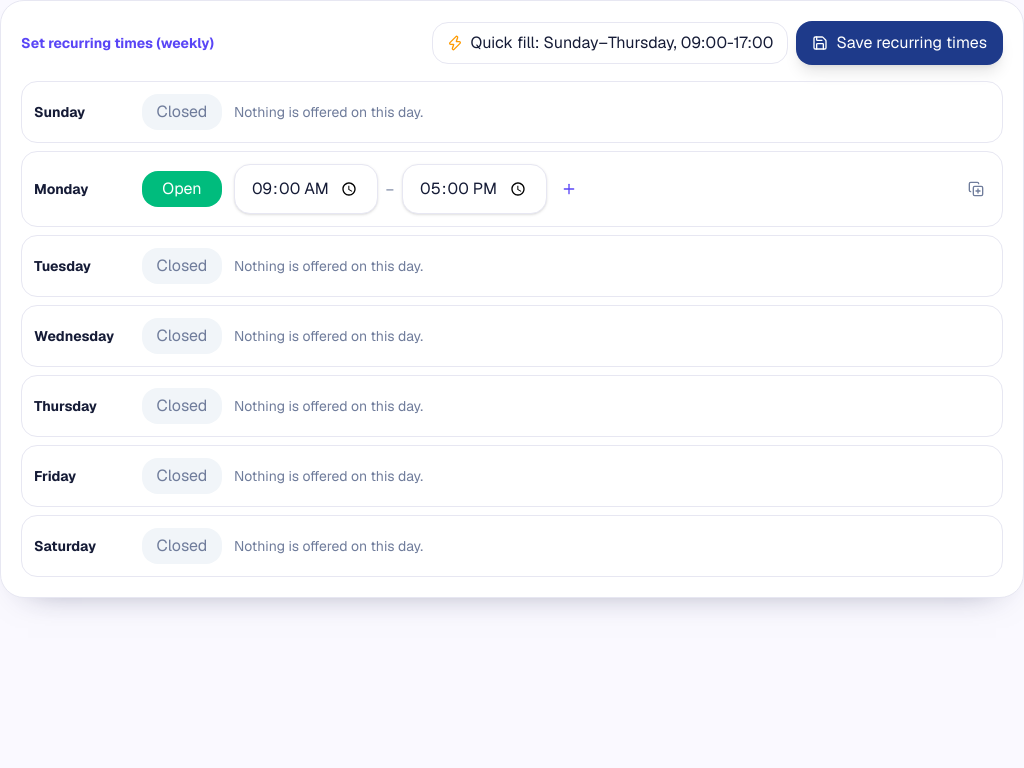
employee weekly hours editor › refuses an end time that is not after the start time
Replace the text in the time field showing "17:00" with "08:00": (474, 189) x1=402 y1=164 x2=547 y2=214
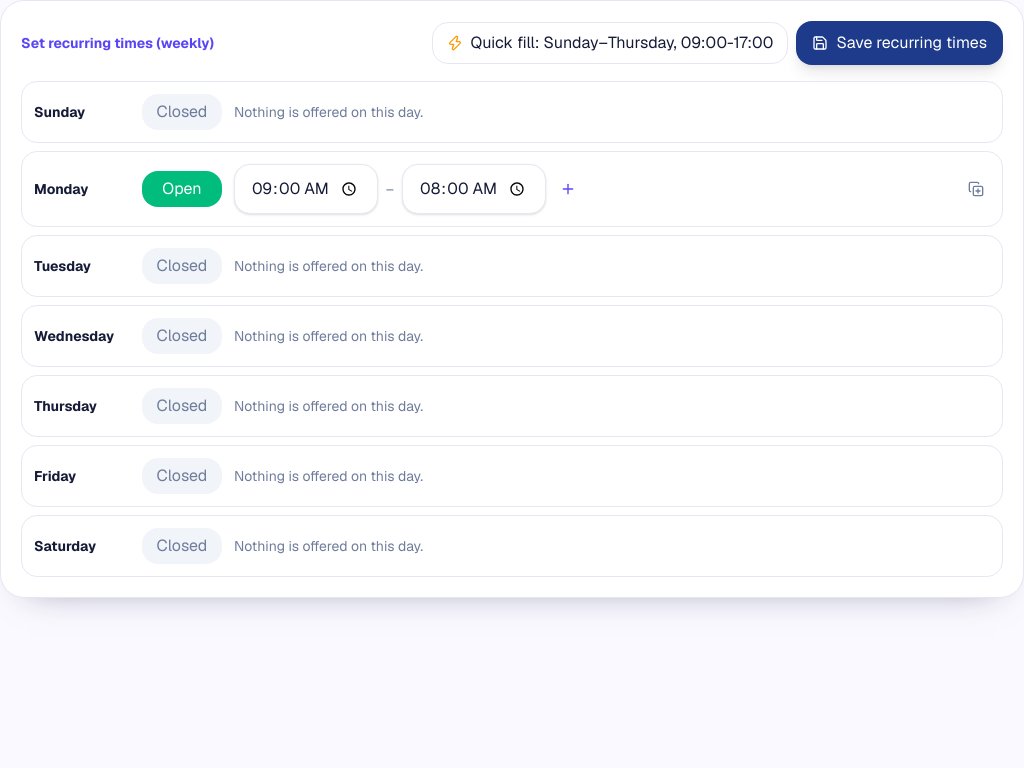
Click the button "Save recurring times": click(900, 43) x1=796 y1=21 x2=1003 y2=65
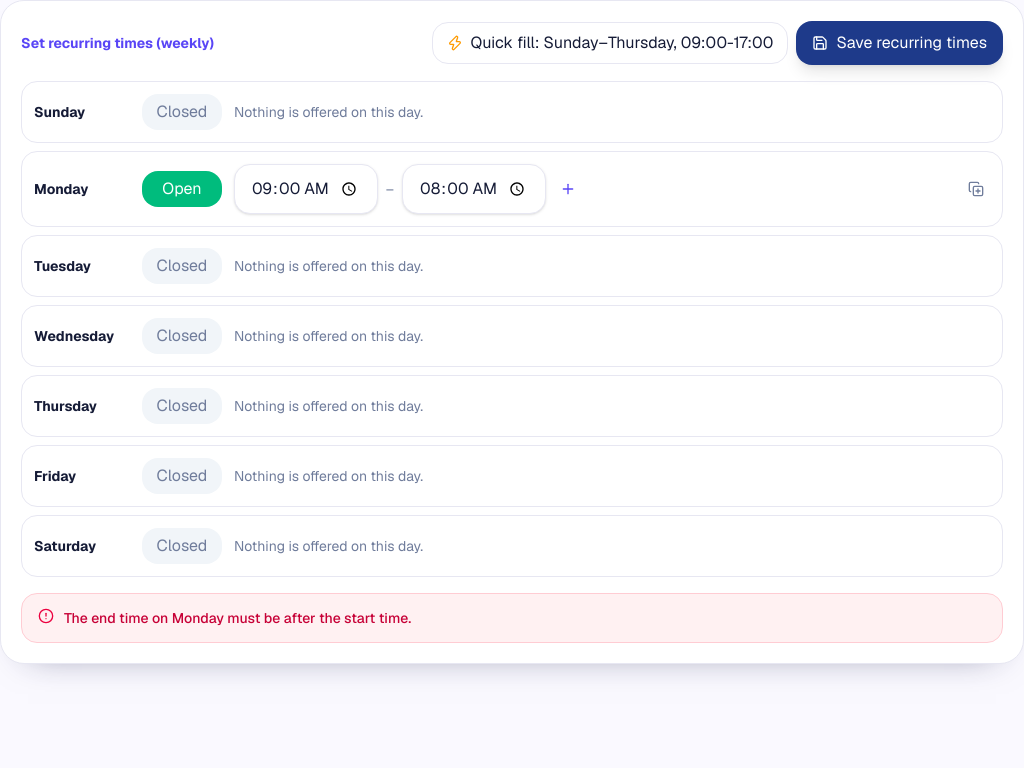
Now the message shows "The end time on Monday", box x1=64 y1=609 x2=411 y2=627
